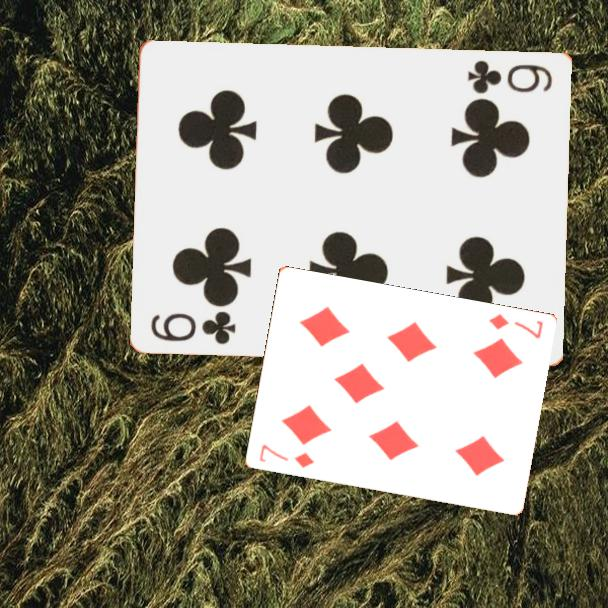c06: (464, 56, 555, 96), (148, 308, 239, 347)
d07: (485, 310, 546, 342), (255, 441, 317, 471)
